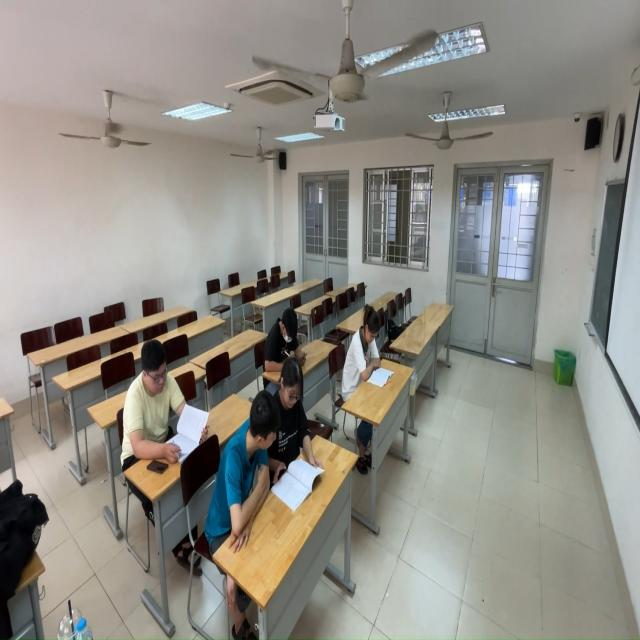read: (121, 340, 211, 472), (207, 391, 278, 557), (264, 360, 331, 511), (343, 304, 397, 405), (261, 308, 314, 375)
